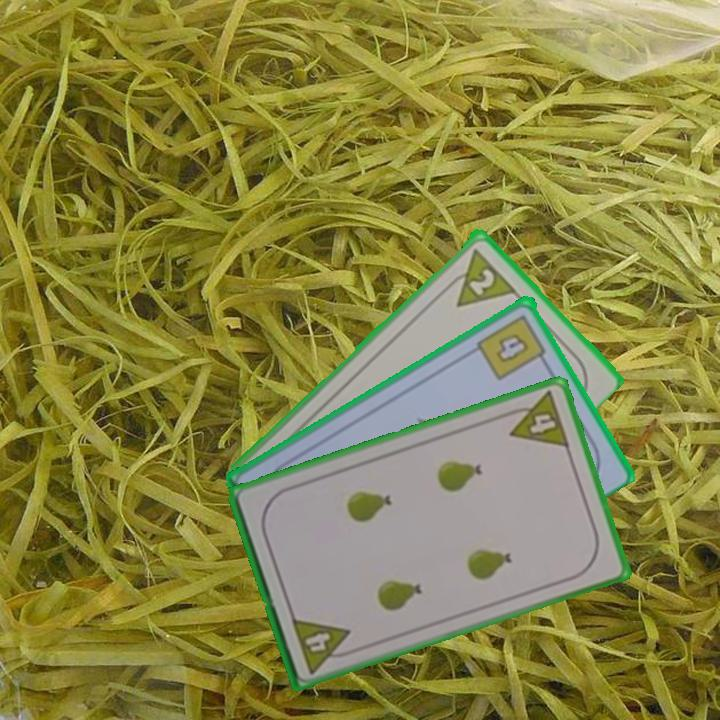2p: (439, 244, 518, 310)
4b: (473, 310, 551, 382)
4p: (500, 387, 572, 451), (288, 613, 358, 676)
